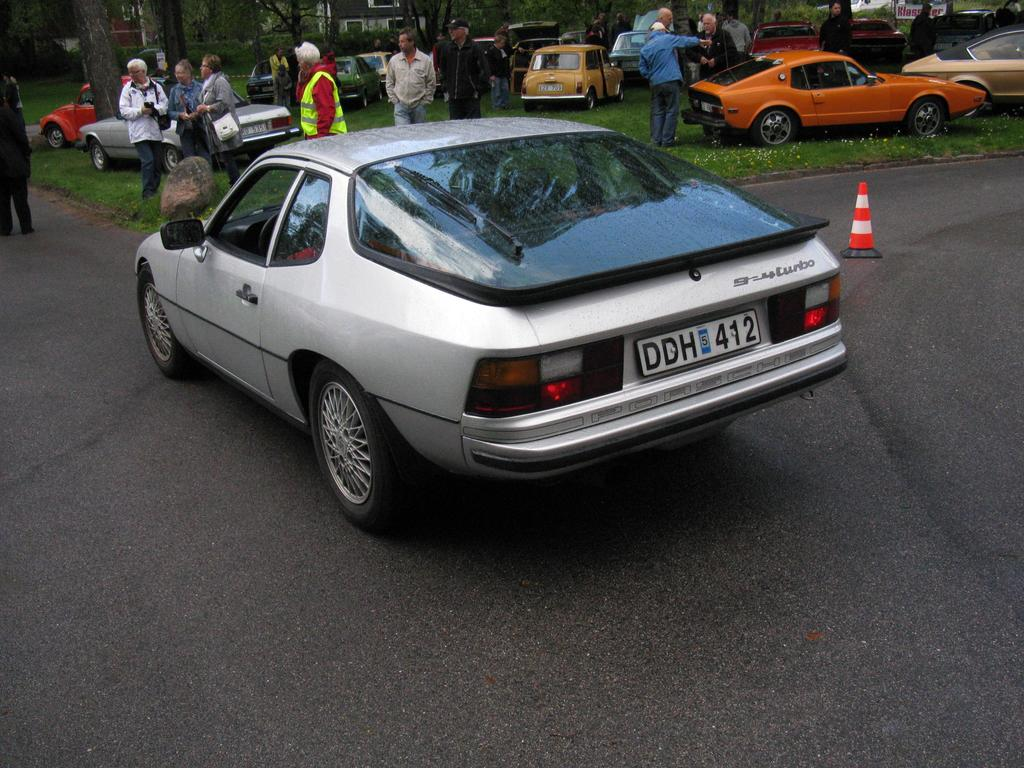Car: (135, 117, 845, 533), (38, 3, 1023, 144)
